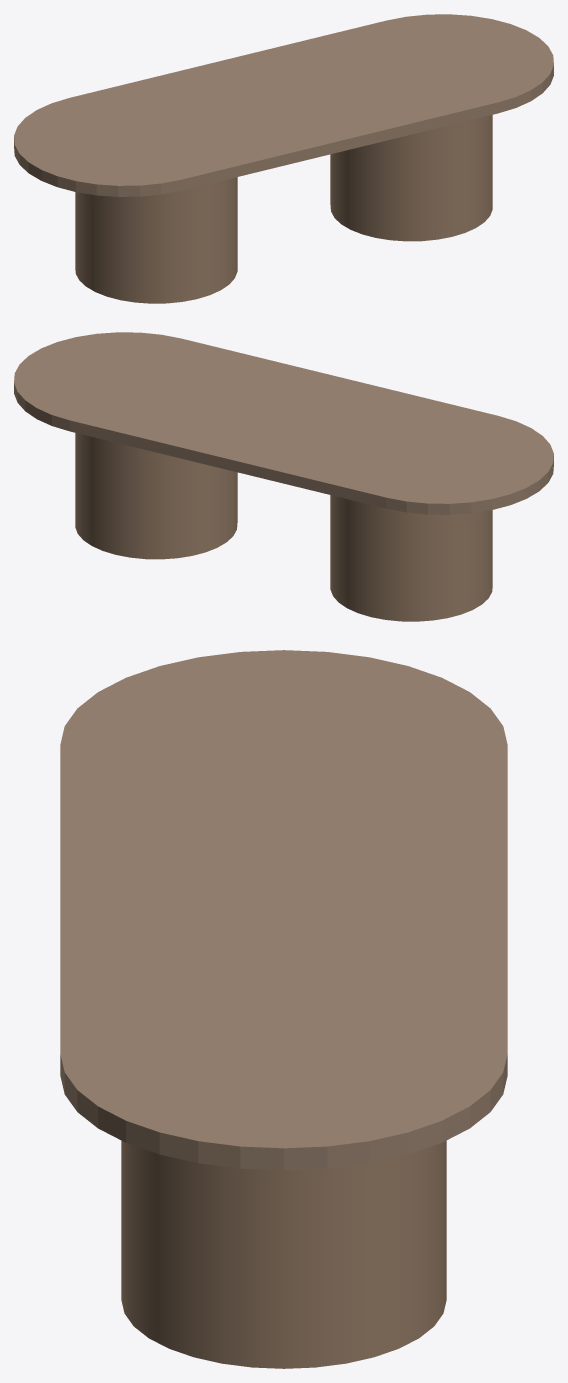
File: SM_DiningTable_Oval.fbx
3 renders of one model, top to bottom at view 1: azimuth 30°, elevation 25°; view 2: azimuth 150°, elevation 25°; view 3: azimuth 270°, elevation 25°, orthographic. The views are drawn at different scales.
Visible parts, largest first — view 1: SM_DiningTable_Oval; view 2: SM_DiningTable_Oval; view 3: SM_DiningTable_Oval.
Boxes of the visible parts, x1=… form: SM_DiningTable_Oval: x1=14, y1=14, x2=553, y2=303; SM_DiningTable_Oval: x1=14, y1=332, x2=553, y2=621; SM_DiningTable_Oval: x1=60, y1=650, x2=507, y2=1368.
Size of the model in its own units: 290 by 75 by 110.
